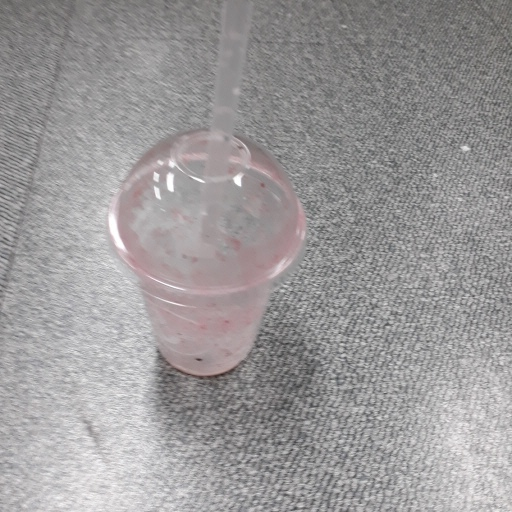Plastic_2: (106, 4, 311, 375)
